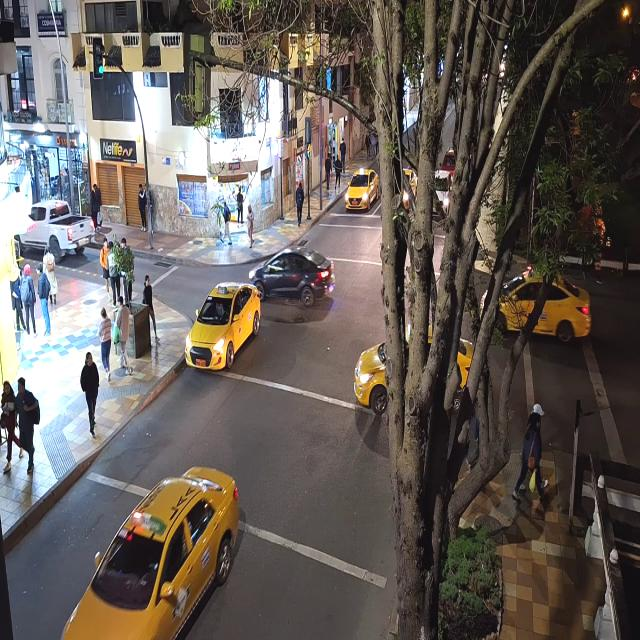CMT: (18, 201, 96, 255)
SED: (61, 472, 239, 640), (482, 274, 590, 346), (186, 288, 254, 366), (250, 250, 334, 300), (346, 172, 375, 210)
